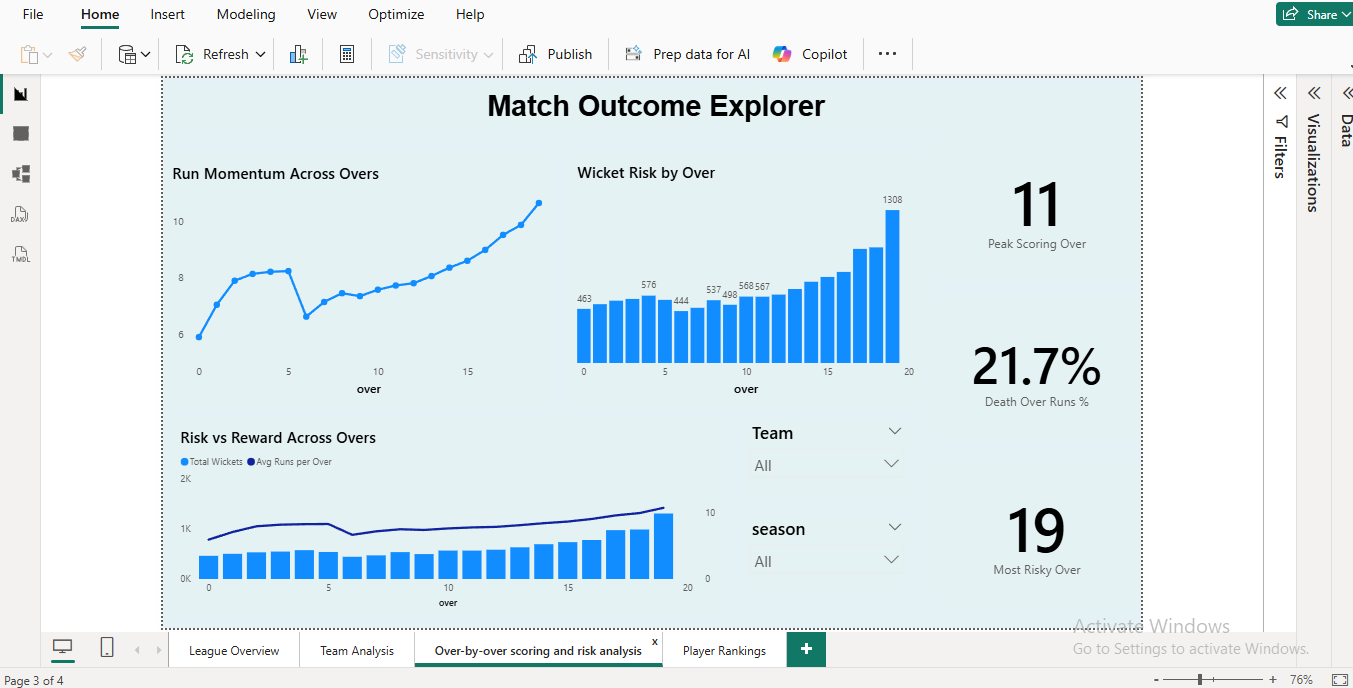

Layout of this report page (visuals, bound fields, positions):
{"tool":"powerbi","page":{"name":"Over-by-over scoring and risk analysis","canvas":[1280,720],"ordinal":2},"visuals":[{"type":"textbox","box":[10.1,10.1,1270.1,57.6],"z":0},{"type":"lineChart","title":"Run Momentum Across Overs","fields":{"Category":["deliveries.over"],"Y":["calculations.Avg Runs per Over"]},"box":[0,97.9,514.1,329.8],"z":1000},{"type":"columnChart","title":"Wicket Risk by Over","fields":{"Category":["deliveries.over"],"Y":["deliveries.Total Wickets"]},"box":[529.9,96.5,466.6,331.2],"z":2000},{"type":"slicer","fields":{"Values":["matches.season"]},"box":[763.2,574.6,211.7,95],"z":3000},{"type":"slicer","fields":{"Values":["Teams.Team"]},"box":[763.2,449.3,211.7,100.8],"z":4000},{"type":"card","fields":{"Values":["calculations.Peak Scoring Over"]},"box":[1007.8,74.9,272.2,187.2],"z":5000},{"type":"card","fields":{"Values":["calculations.Death Over Runs %"]},"box":[1007.8,288,272.2,187.2],"z":6000},{"type":"lineClusteredColumnComboChart","title":"Risk vs Reward Across Overs","fields":{"Category":["deliveries.over"],"Y":["deliveries.Total Wickets"],"Y2":["calculations.Avg Runs per Over"]},"box":[10.1,443.5,724.3,262.1],"z":7000},{"type":"card","fields":{"Values":["calculations.Most Risky Over"]},"box":[1007.8,501.1,272.2,187.2],"z":8000}]}

Visuals, with their boxes on the page's 1280x720 design canvas (x1, y1, x2, y2). These are canvas units, not pixel positions in the 1353x688 screenshot, which may show the page scaled, cropped or inside an application window:
textbox: [x1=10, y1=10, x2=1280, y2=68]
"Run Momentum Across Overs" lineChart: [x1=0, y1=98, x2=514, y2=428]
"Wicket Risk by Over" columnChart: [x1=530, y1=96, x2=996, y2=428]
slicer - matches.season: [x1=763, y1=575, x2=975, y2=670]
slicer - Teams.Team: [x1=763, y1=449, x2=975, y2=550]
card - calculations.Peak Scoring Over: [x1=1008, y1=75, x2=1280, y2=262]
card - calculations.Death Over Runs %: [x1=1008, y1=288, x2=1280, y2=475]
"Risk vs Reward Across Overs" lineClusteredColumnComboChart: [x1=10, y1=444, x2=734, y2=706]
card - calculations.Most Risky Over: [x1=1008, y1=501, x2=1280, y2=688]
